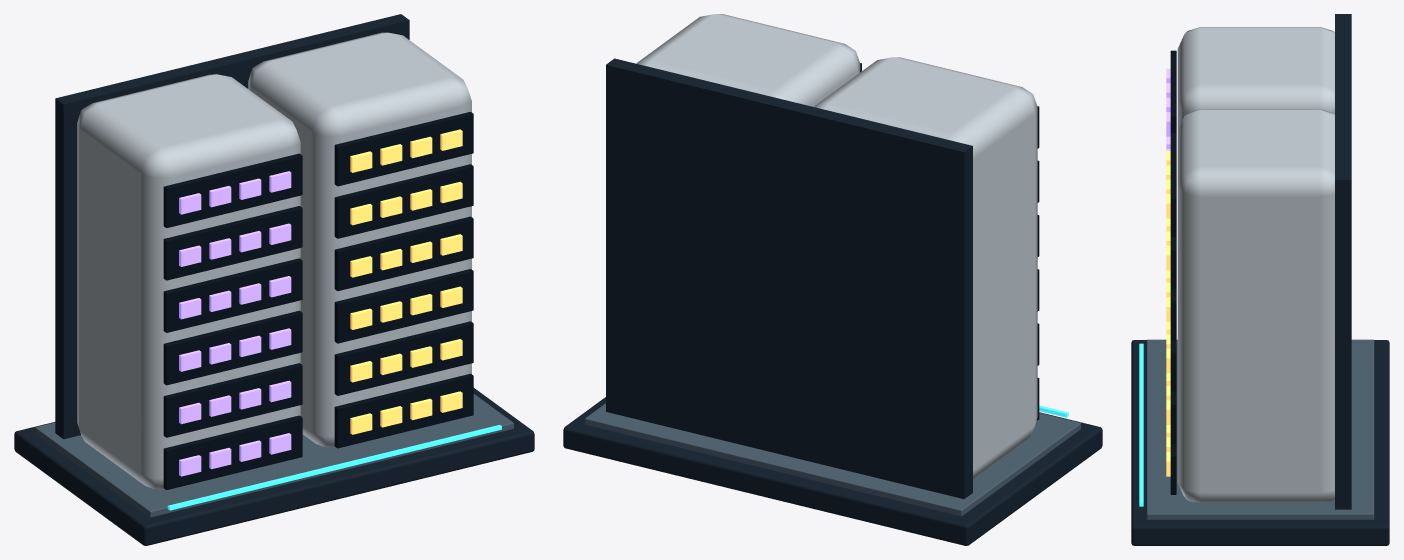
The model's file is kv-cache-rack.glb.
The picture shows the model from 3 angles, left to right: view 1: azimuth 30°, elevation 25°; view 2: azimuth 150°, elevation 25°; view 3: azimuth 270°, elevation 25°; orthographic projection. The views are drawn at different scales.
Parts seen in each view (by area): view 1: cabinet_violet, cabinet_amber, base, back, inlay, cache_amber_1, cache_amber_0, cache_amber_3, cache_amber_2, cache_amber_5, cache_amber_4, cache_violet_5 (+6 smaller); view 2: back, cabinet_violet, base, cabinet_amber, inlay; view 3: cabinet_amber, cabinet_violet, base, inlay, back, status_strip, cache_amber_5, cache_violet_5, cache_amber_3, cache_amber_1, cache_amber_0, cache_amber_2 (+1 smaller).
Boxes of the visible parts, x1,y1,x2,y2 form: cabinet_violet: (77, 74, 300, 489); cabinet_amber: (248, 32, 471, 447); base: (14, 388, 534, 545); back: (55, 14, 409, 439); inlay: (35, 394, 513, 517); cache_amber_1: (334, 321, 473, 395); cache_amber_0: (334, 373, 473, 448); cache_amber_3: (334, 216, 473, 290); cache_amber_2: (334, 269, 473, 343); cache_amber_5: (334, 112, 473, 186); cache_amber_4: (334, 164, 473, 238); cache_violet_5: (163, 153, 302, 227); back: (606, 58, 972, 498); cabinet_violet: (814, 57, 1037, 478); base: (563, 397, 1102, 545); cabinet_amber: (636, 14, 860, 106); inlay: (585, 403, 1080, 516); cabinet_amber: (1177, 109, 1334, 502); cabinet_violet: (1177, 27, 1334, 130); base: (1131, 340, 1389, 545); inlay: (1146, 339, 1374, 519); back: (1335, 14, 1351, 509); status_strip: (1139, 343, 1143, 506); cache_amber_5: (1170, 133, 1176, 236); cache_violet_5: (1170, 50, 1176, 132); cache_amber_3: (1170, 288, 1176, 340); cache_amber_1: (1170, 391, 1176, 443); cache_amber_0: (1170, 443, 1176, 494); cache_amber_2: (1170, 340, 1176, 391).
Bounding box in the file's own units: 4.3 × 3.8 × 2.5.
